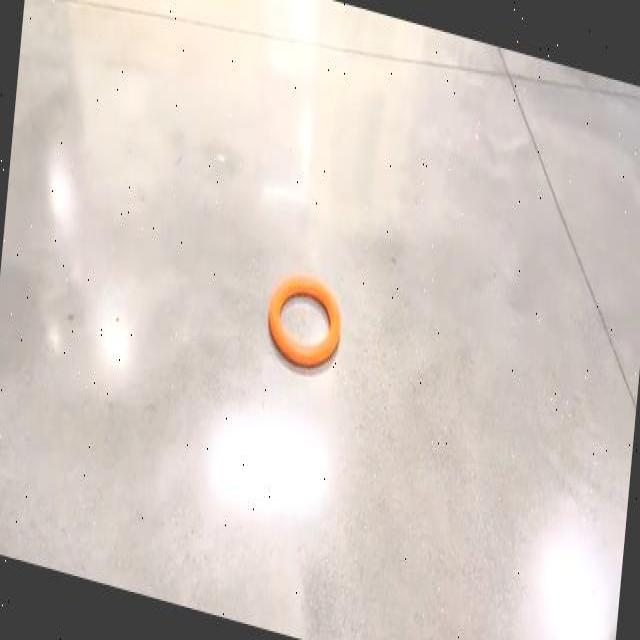note: (268, 274, 341, 366)
